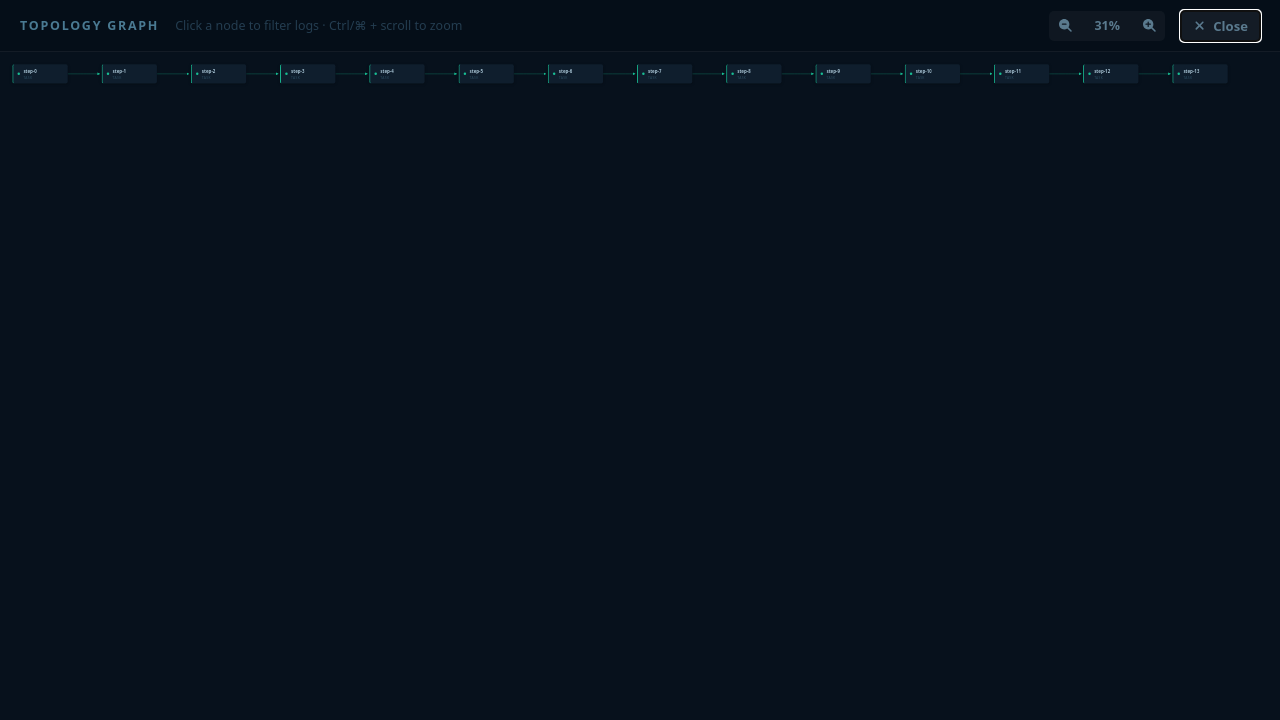
Test: ExecutionDag › zoom › stops zooming out at the floor
Click the button named "Zoom out".
click(1065, 26)  # box [1051,12,1079,38]
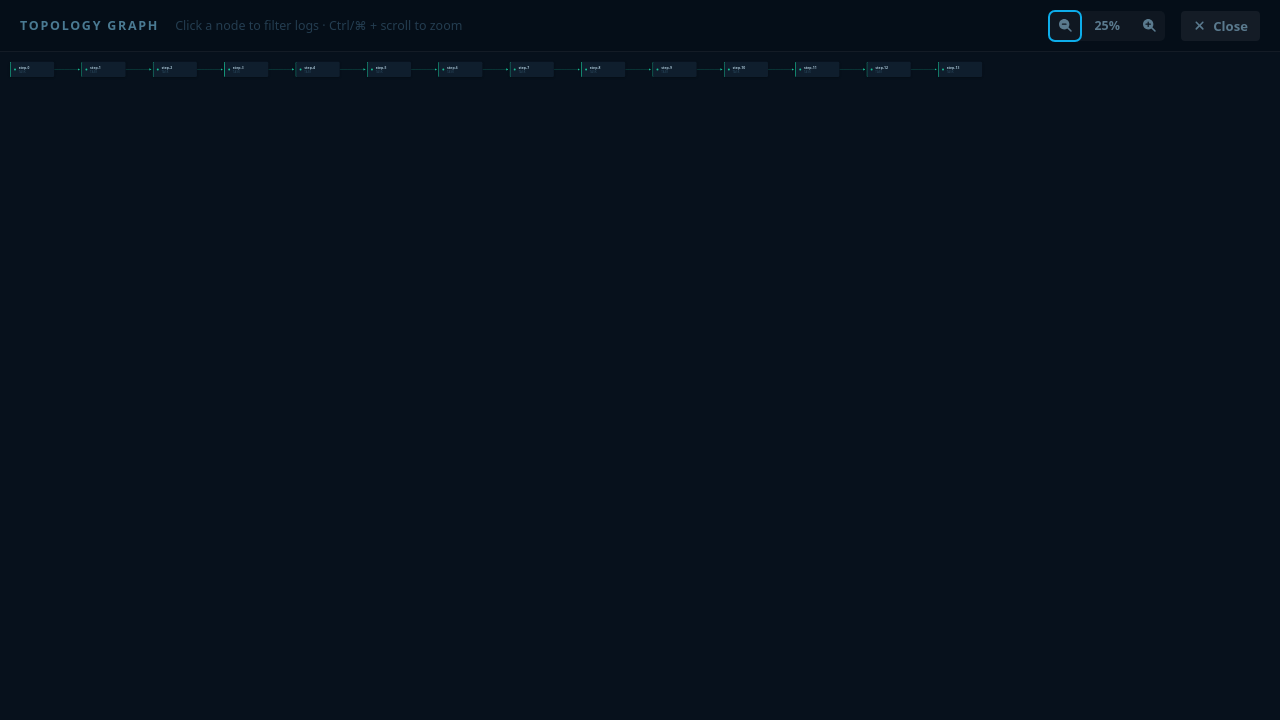
Click the button named "Zoom out".
click(1065, 26)  # box [1051,12,1079,38]
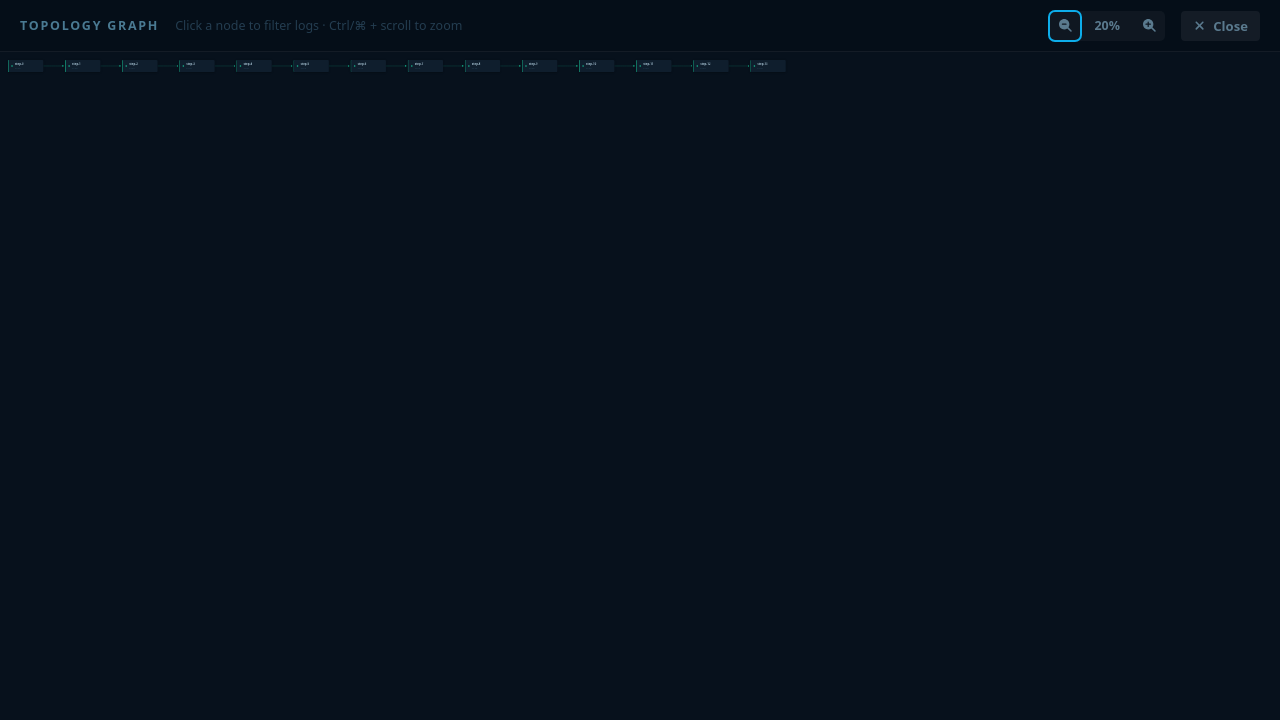
Click the button named "Zoom out".
click(1065, 26)  # box [1051,12,1079,38]
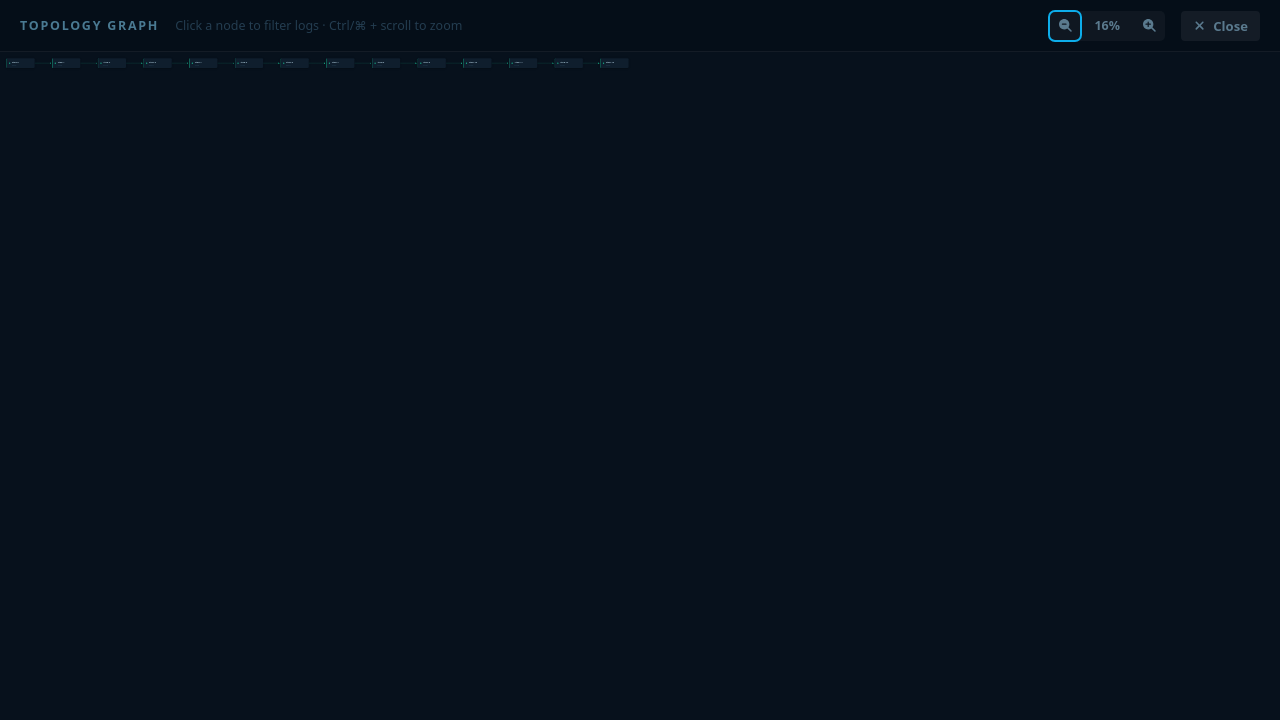
Click the button named "Zoom out".
click(1065, 26)  # box [1051,12,1079,38]
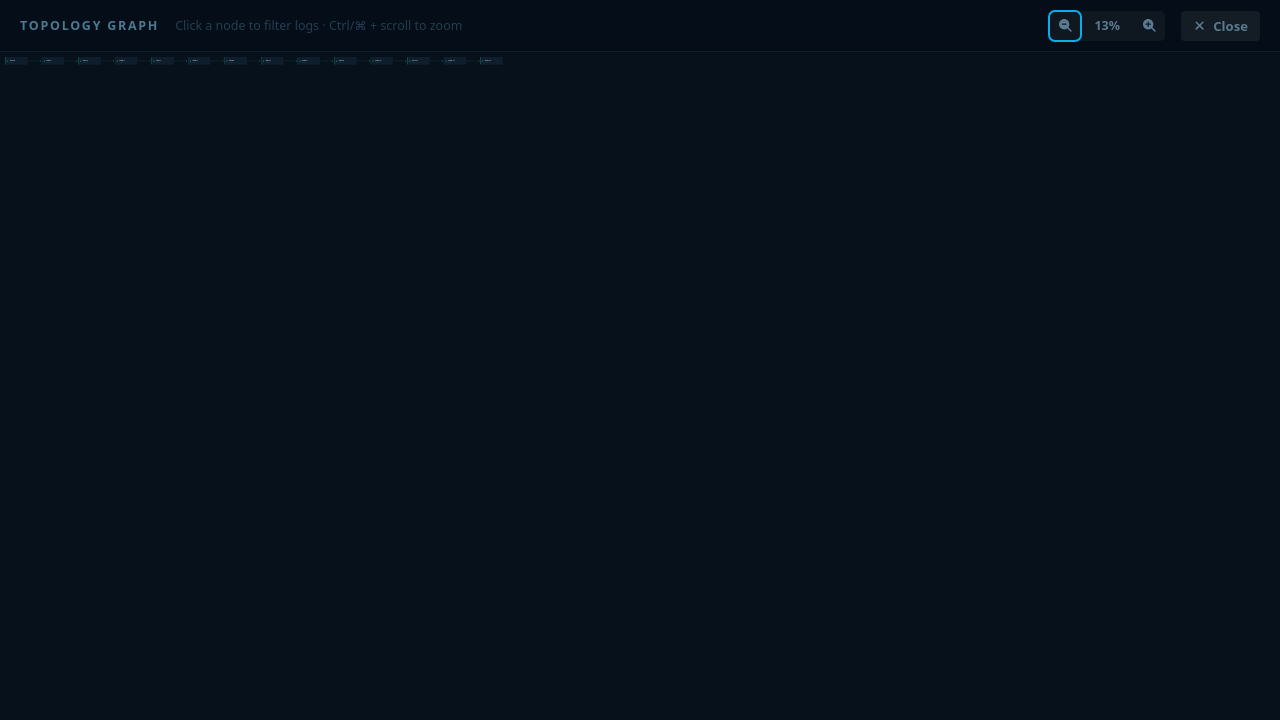
Click the button named "Zoom out".
click(1065, 26)  # box [1051,12,1079,38]
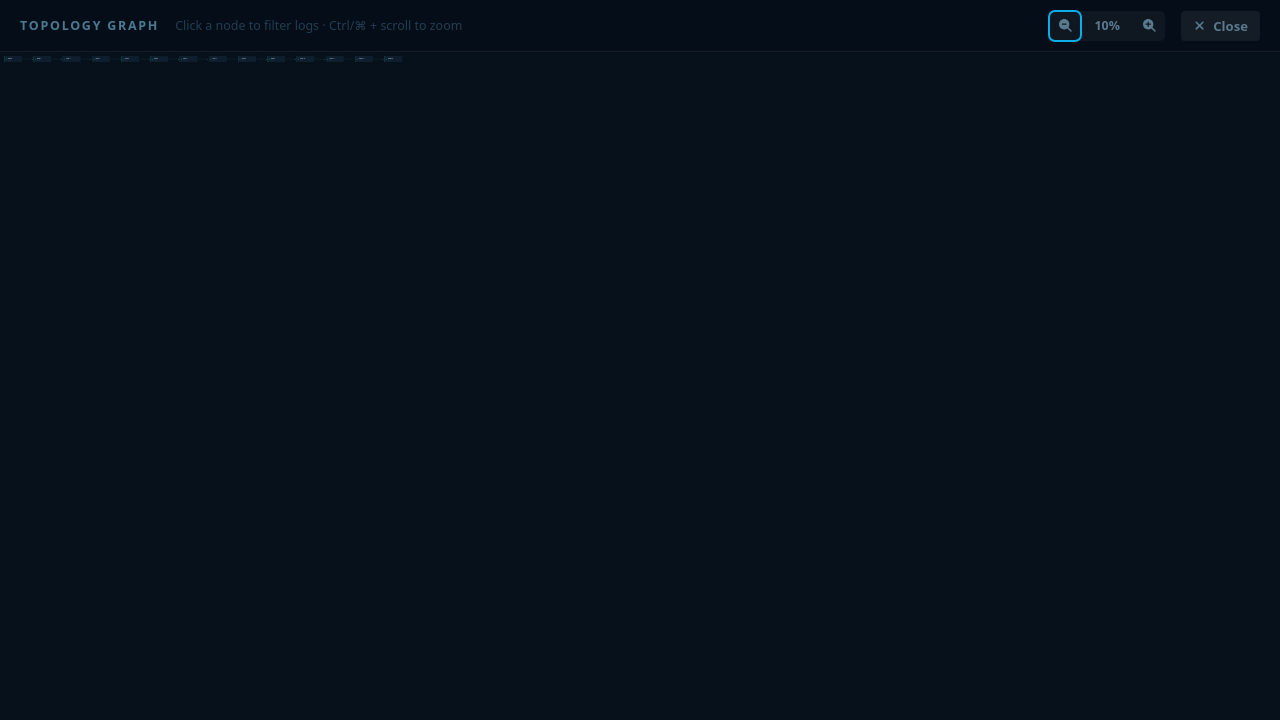
Click the button named "Zoom out".
click(1065, 26)  # box [1051,12,1079,38]
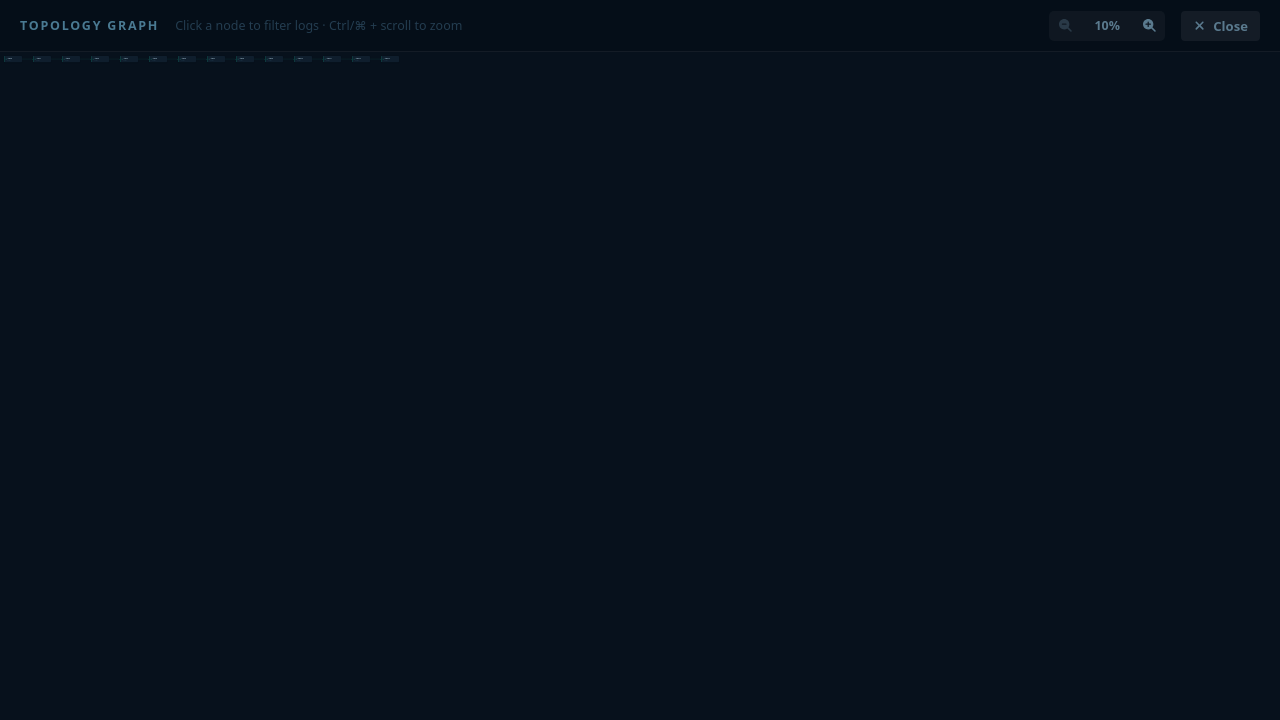
Expected: the button named "Zoom out" is disabled, [1051,12,1079,38]
